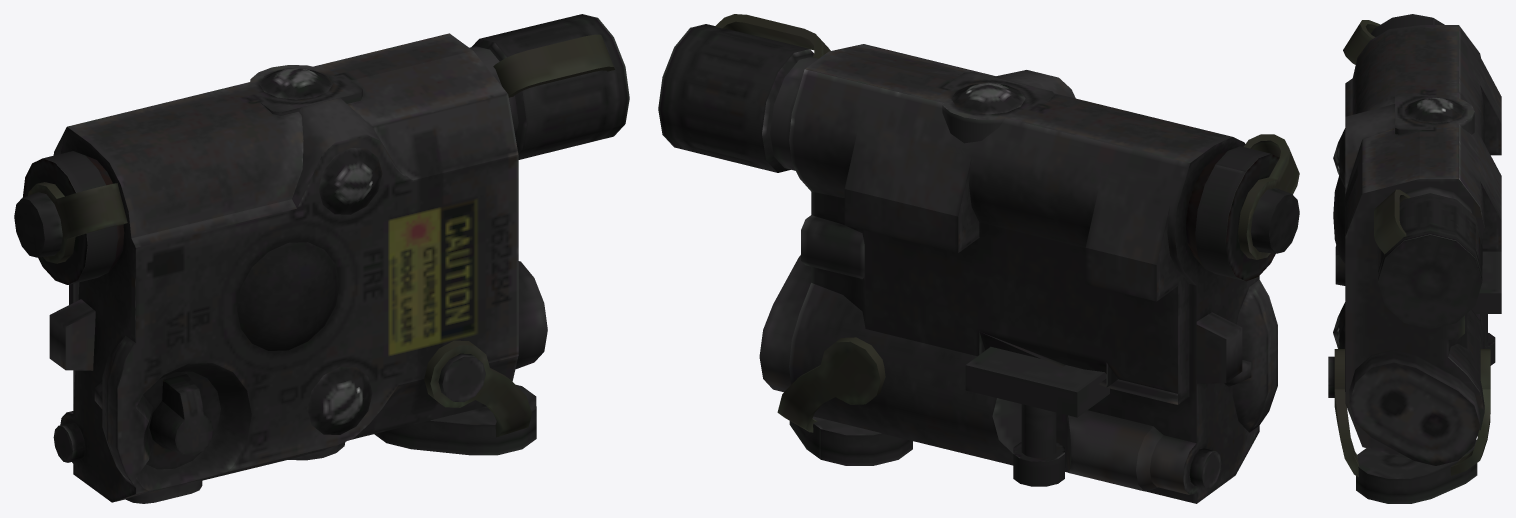
The model's file is t6_attach_dbal_view_LOD0.obj.
The picture shows the model from 3 angles, left to right: view 1: azimuth 30°, elevation 25°; view 2: azimuth 150°, elevation 25°; view 3: azimuth 270°, elevation 25°; orthographic projection. The views are drawn at different scales.
Visible parts, largest first — view 1: mtl_t6_attach_dbal; view 2: mtl_t6_attach_dbal; view 3: mtl_t6_attach_dbal.
Boxes of the visible parts, x1,y1,x2,y2 form: mtl_t6_attach_dbal: (14, 14, 629, 503); mtl_t6_attach_dbal: (658, 14, 1299, 503); mtl_t6_attach_dbal: (1328, 14, 1501, 503).
Size of the model in its own units: 9.56 by 6.11 by 3.01.
